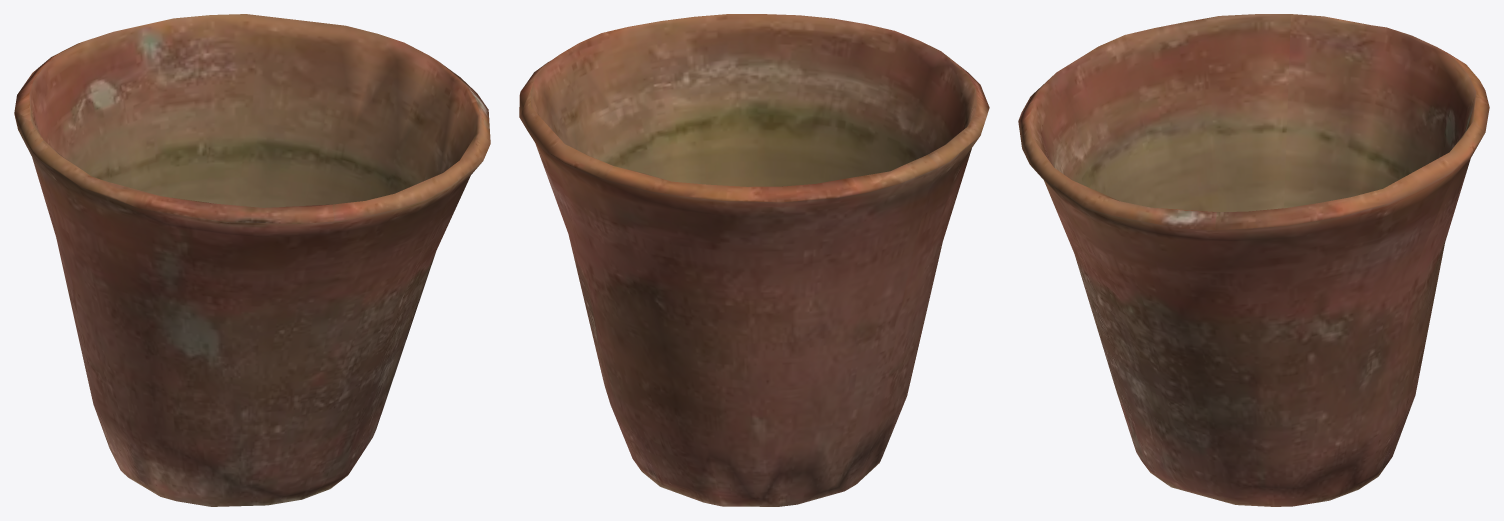
The model's file is planter_pot_clay.glb.
3 views of the same model, side by side, from view 1: azimuth 30°, elevation 25°; view 2: azimuth 150°, elevation 25°; view 3: azimuth 270°, elevation 25° (orthographic).
Parts seen in each view (by area): view 1: planter_pot_clay; view 2: planter_pot_clay; view 3: planter_pot_clay.
Boxes of the visible parts, left/top/right/bottom form: planter_pot_clay: left=14, top=14, right=490, bottom=506; planter_pot_clay: left=519, top=14, right=989, bottom=506; planter_pot_clay: left=1018, top=14, right=1489, bottom=506.
Size of the model in its own units: 0.2656 by 0.2218 by 0.2635.
1 material, 1 textured.
